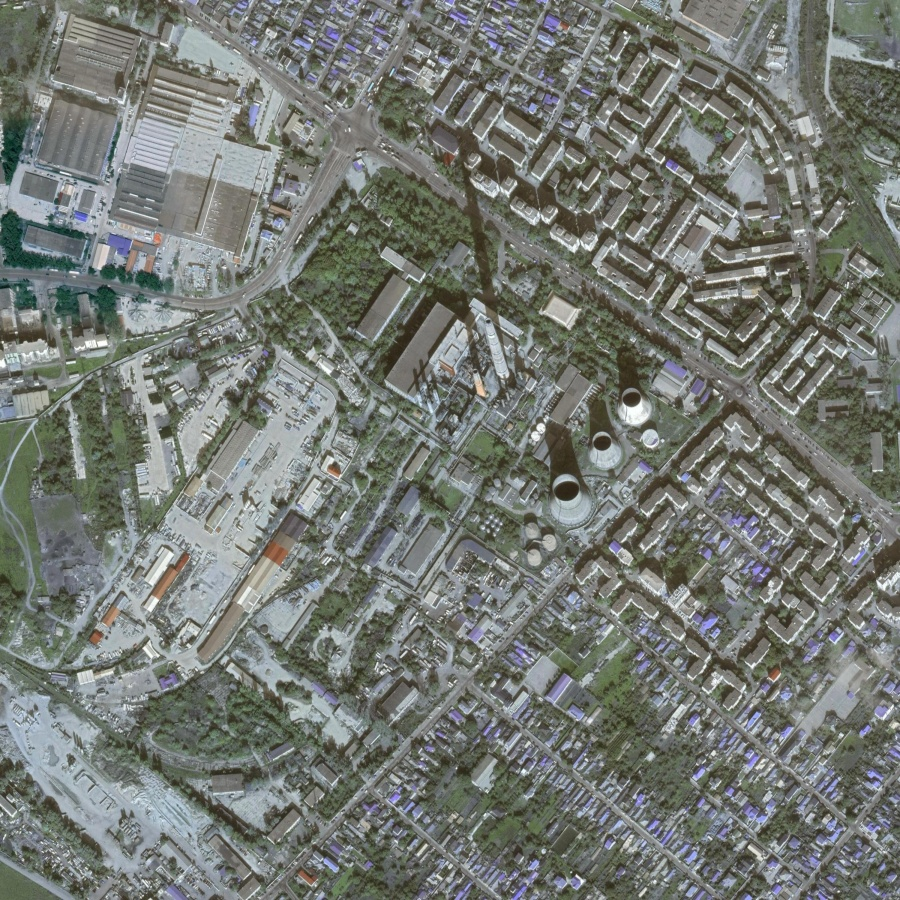PowerPlant: (392, 209, 678, 553)
